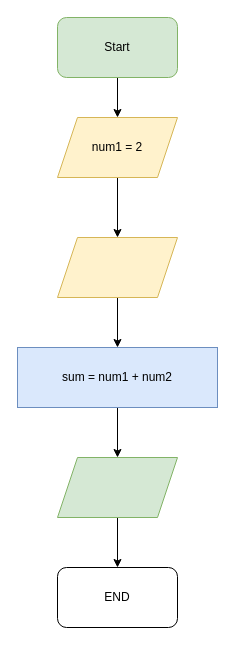
Some shapes in this 235 by 645 pixel diagram are drawn without their labels. The box of each missing label's shape, as (x1, y1, x2, y2) in pixels:
Display result: (56, 456, 178, 518)
num2 = 3: (56, 236, 178, 298)
